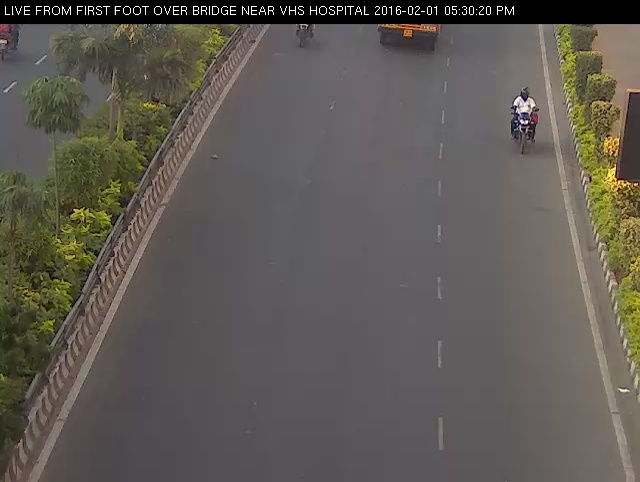Bus: (367, 12, 457, 58)
Person: (503, 76, 546, 168), (289, 13, 320, 60)
